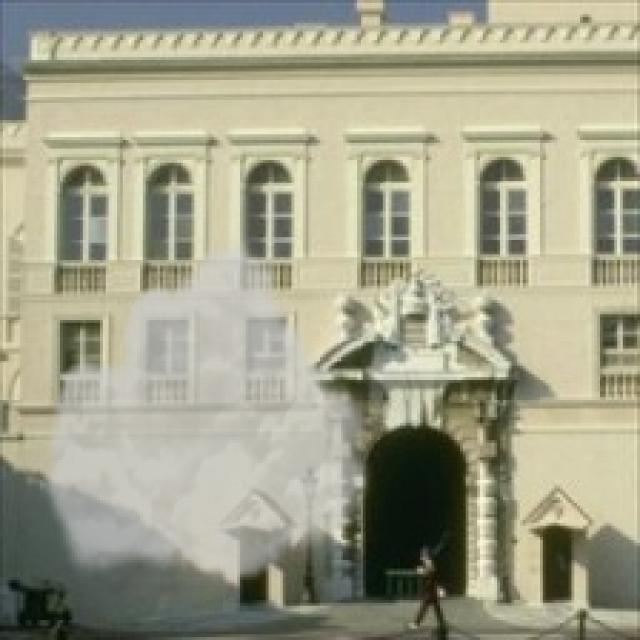Smoke: (37, 234, 380, 586)
